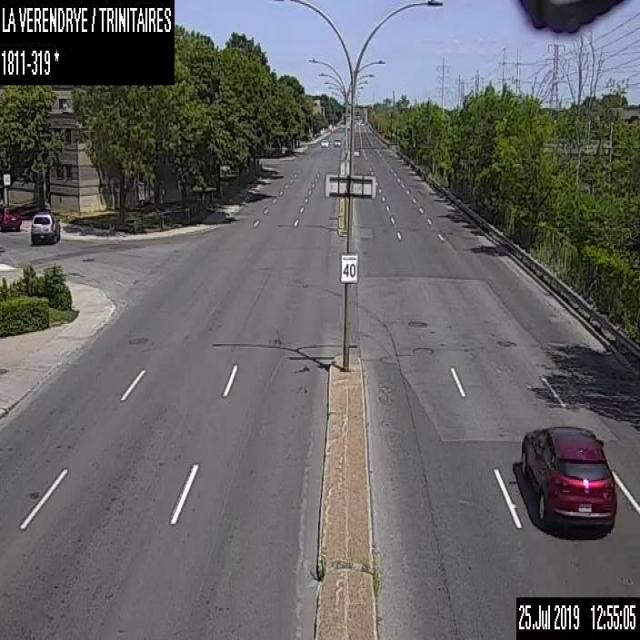vehicle: (520, 424, 616, 528), (30, 211, 60, 244), (0, 203, 23, 232), (320, 138, 328, 148), (333, 137, 341, 146)
